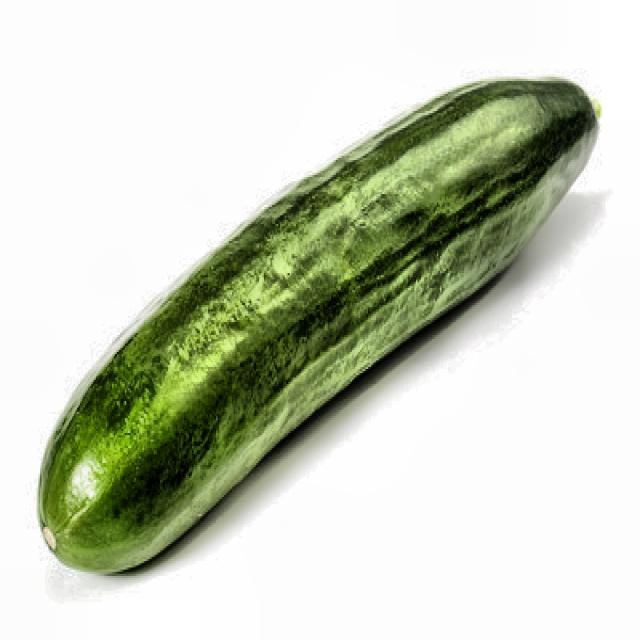cucumber: (23, 67, 588, 597)
